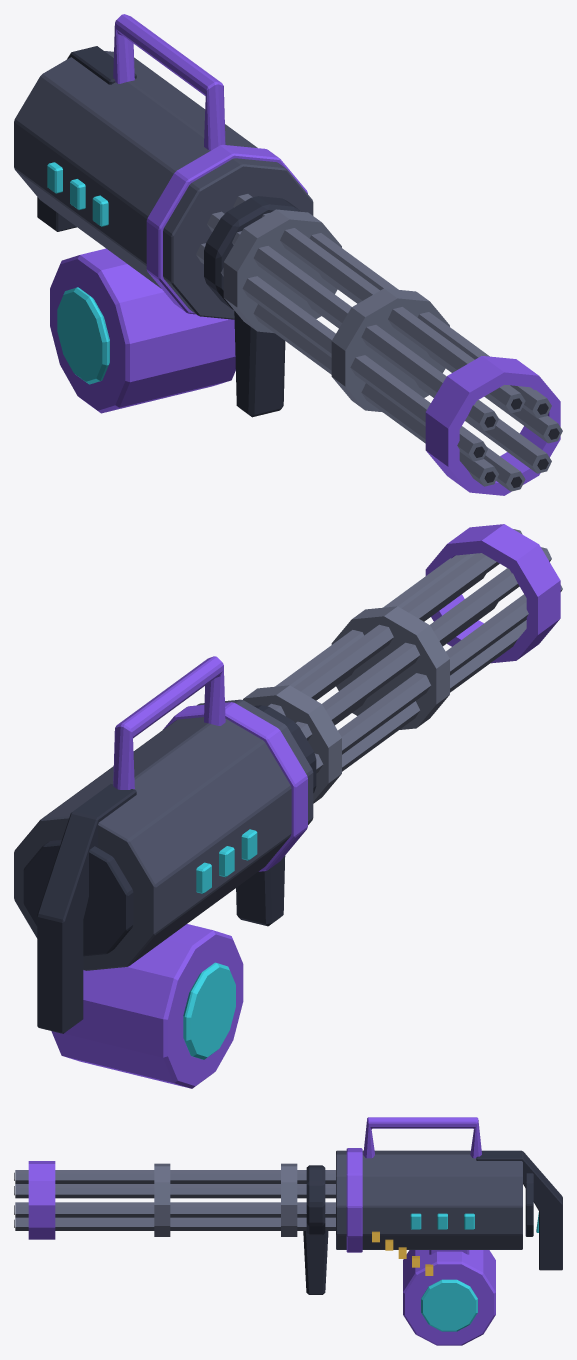
Rendered from myw_heavyminigun.glb.
3 views of the same model, one above another, from view 1: azimuth 30°, elevation 25°; view 2: azimuth 150°, elevation 25°; view 3: azimuth 270°, elevation 25° (orthographic). The views are drawn at different scales.
Visible parts, largest first — view 1: Body, Barrels, AmmoDrum, Grip; view 2: Body, Barrels, AmmoDrum, Grip; view 3: Body, Barrels, AmmoDrum, Grip, Belt.
Part boxes in pixels (box(x1,y1,x2,y2)): Body: box(14, 14, 313, 319); Barrels: box(196, 194, 562, 495); AmmoDrum: box(50, 248, 235, 413); Grip: box(204, 196, 300, 417); Body: box(14, 656, 313, 1033); Barrels: box(243, 524, 562, 803); AmmoDrum: box(51, 924, 243, 1088); Grip: box(236, 705, 316, 926); Body: box(336, 1117, 562, 1270); Barrels: box(14, 1161, 335, 1239); AmmoDrum: box(403, 1250, 495, 1345); Grip: box(303, 1165, 328, 1294); Belt: box(372, 1231, 433, 1275).
Size of the model in its own units: 0.8859 by 1.75 by 4.11.
